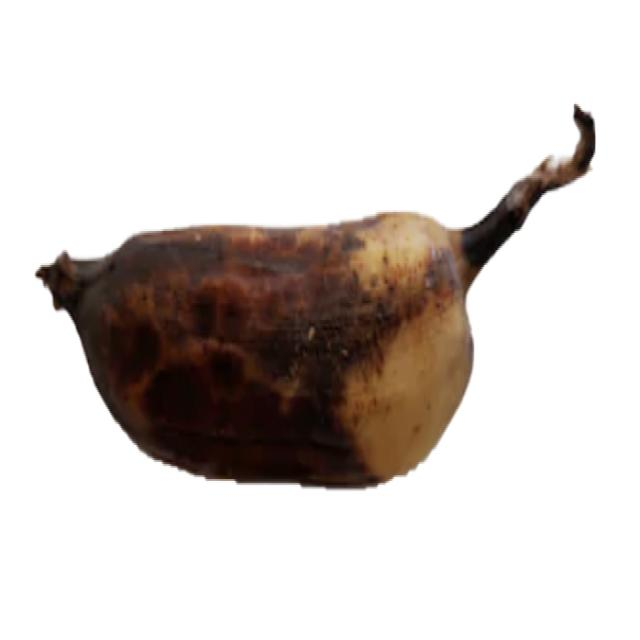rotten-banana: (34, 100, 596, 490)
